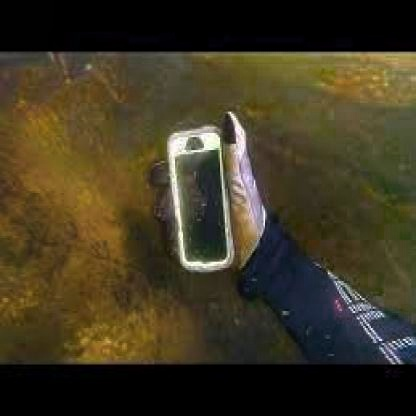cellphone: (166, 120, 236, 270)
